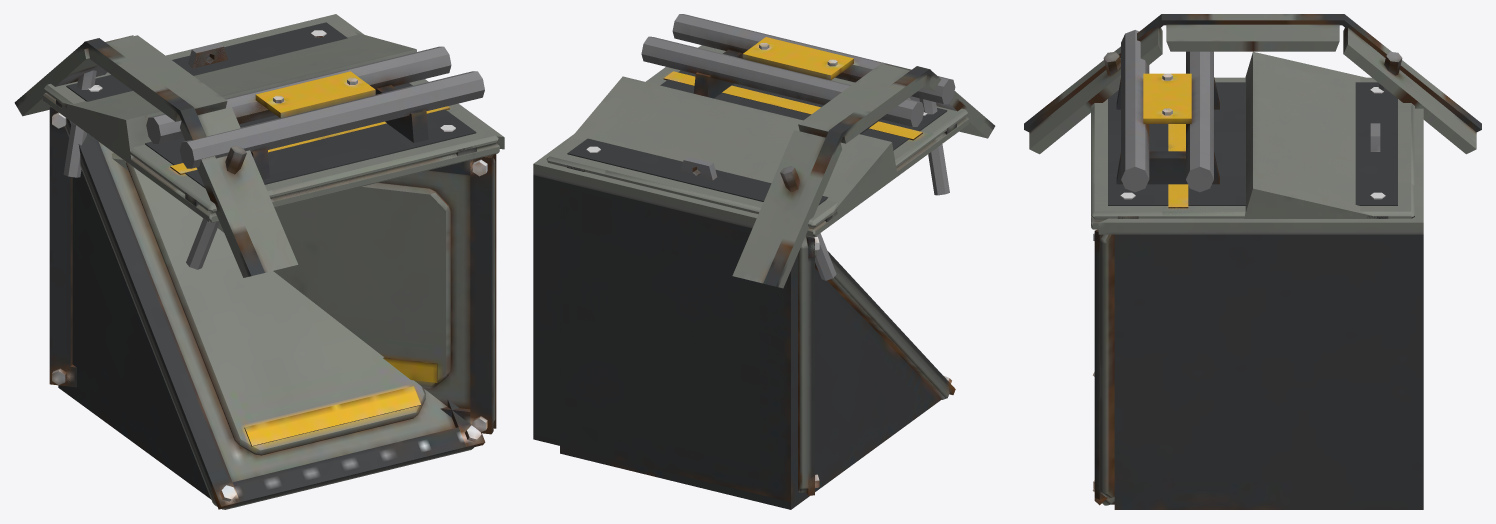
The model's file is R4H_HullKit.fbx.
3 views of the same model, side by side, from view 1: azimuth 30°, elevation 25°; view 2: azimuth 150°, elevation 25°; view 3: azimuth 270°, elevation 25° (orthographic). The views are drawn at different scales.
Visible parts, largest first — view 1: ramp, cheek, lip, nose_2, nose_0, gasket, nose_3, nose_1, plate_08_0, plate_09_0, plate_06_0, plate_10_0 (+8 smaller); view 2: cheek, ramp, nose_0, lip, nose_2, nose_1, nose_3, gasket, plate_06_0, plate_14_0, plate_02_0, plate_04_1 (+8 smaller); view 3: cheek, lip, nose_0, nose_1, gasket, nose_3, nose_2, plate_09_0, plate_01_0, plate_05_0, plate_12_1, plate_08_1 (+6 smaller).
Boxes of the visible parts, x1,y1,x2,y2 form: ramp: (58, 118, 485, 509); cheek: (49, 14, 504, 434); lip: (14, 35, 298, 277); nose_2: (62, 39, 466, 168); nose_0: (112, 39, 466, 179); gasket: (66, 22, 476, 188); nose_3: (65, 32, 484, 177); nose_1: (116, 33, 484, 157); plate_08_0: (88, 31, 476, 207); plate_09_0: (93, 80, 499, 206); plate_06_0: (43, 31, 455, 211); plate_10_0: (57, 31, 476, 223); cheek: (533, 67, 819, 501); ramp: (560, 187, 955, 509); nose_0: (591, 26, 926, 196); lip: (732, 63, 995, 288); nose_2: (594, 25, 955, 223); nose_1: (565, 22, 926, 195); nose_3: (641, 14, 949, 210); gasket: (567, 70, 947, 205); plate_06_0: (606, 121, 939, 236); plate_14_0: (568, 81, 968, 237); plate_02_0: (586, 85, 956, 226); plate_04_1: (606, 98, 818, 206); cheek: (1093, 108, 1423, 509); lip: (1024, 14, 1481, 154); nose_0: (1116, 43, 1355, 202); nose_1: (1121, 41, 1376, 218); gasket: (1108, 82, 1397, 205); nose_3: (1116, 30, 1368, 214); nose_2: (1121, 30, 1365, 196); plate_09_0: (1091, 88, 1382, 229); plate_01_0: (1117, 88, 1388, 218); plate_05_0: (1162, 106, 1412, 218); plate_12_1: (1094, 106, 1414, 185); plate_08_1: (1091, 87, 1382, 196).
Bounding box in the file's own units: 56.5 × 68.96 × 77.7.
